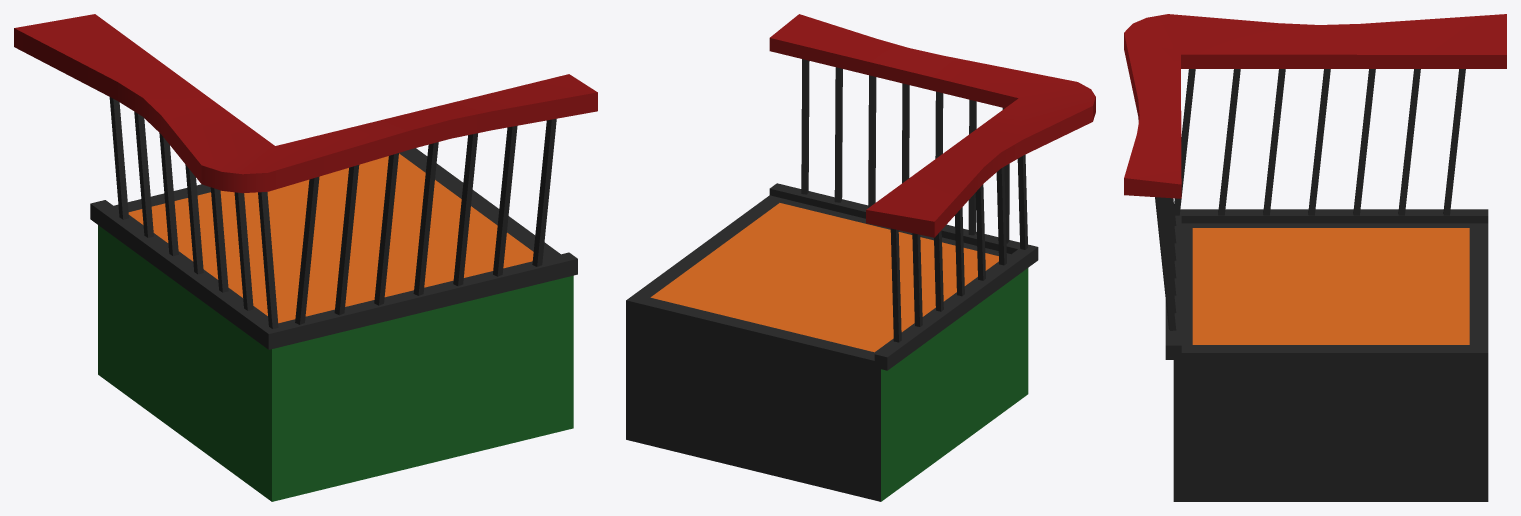
File: MOD_EstradeB.FBX
3 renders of one model, left to right at view 1: azimuth 30°, elevation 25°; view 2: azimuth 150°, elevation 25°; view 3: azimuth 270°, elevation 25°, orthographic. The views are drawn at different scales.
Visible parts, largest first — view 1: MOD_PLAFONDA002; view 2: MOD_PLAFONDA002; view 3: MOD_PLAFONDA002.
Boxes of the visible parts, left/top/right/bottom form: MOD_PLAFONDA002: left=14, top=14, right=597, bottom=501; MOD_PLAFONDA002: left=626, top=14, right=1095, bottom=501; MOD_PLAFONDA002: left=1124, top=14, right=1506, bottom=501.
Size of the model in its own units: 1.24 by 1.13 by 1.22.
